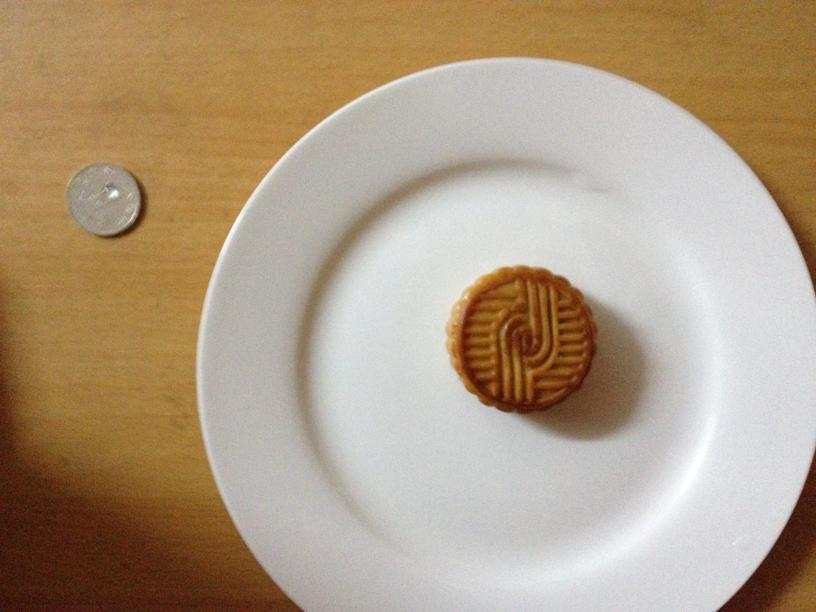coin: (62, 164, 142, 237)
mooncake: (448, 260, 597, 413)
